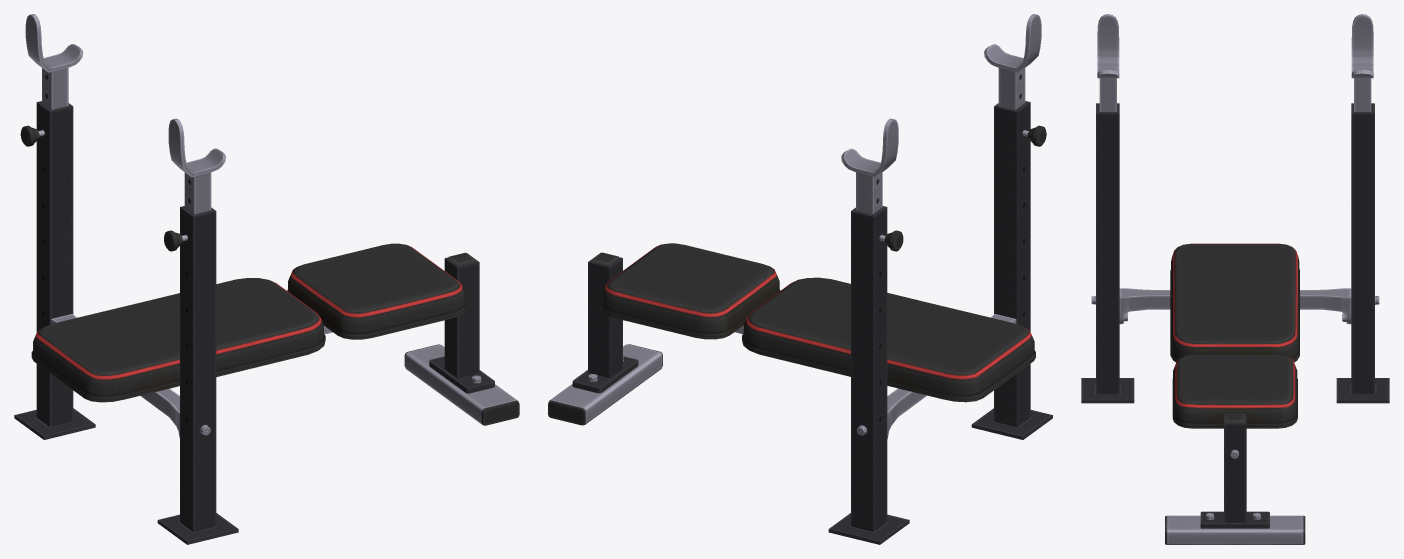
File: MSH_Bench_01.FBX
3 renders of one model, left to right at view 1: azimuth 30°, elevation 25°; view 2: azimuth 150°, elevation 25°; view 3: azimuth 270°, elevation 25°, orthographic. The views are drawn at different scales.
Visible parts, largest first — view 1: MSH_Bench_01; view 2: MSH_Bench_01; view 3: MSH_Bench_01.
Boxes of the visible parts, <box> form: MSH_Bench_01: <box>14,14,519,544</box>; MSH_Bench_01: <box>548,14,1052,544</box>; MSH_Bench_01: <box>1081,14,1389,544</box>.
Size of what is drawn, in the model's own units: 133 by 94.74 by 125.
